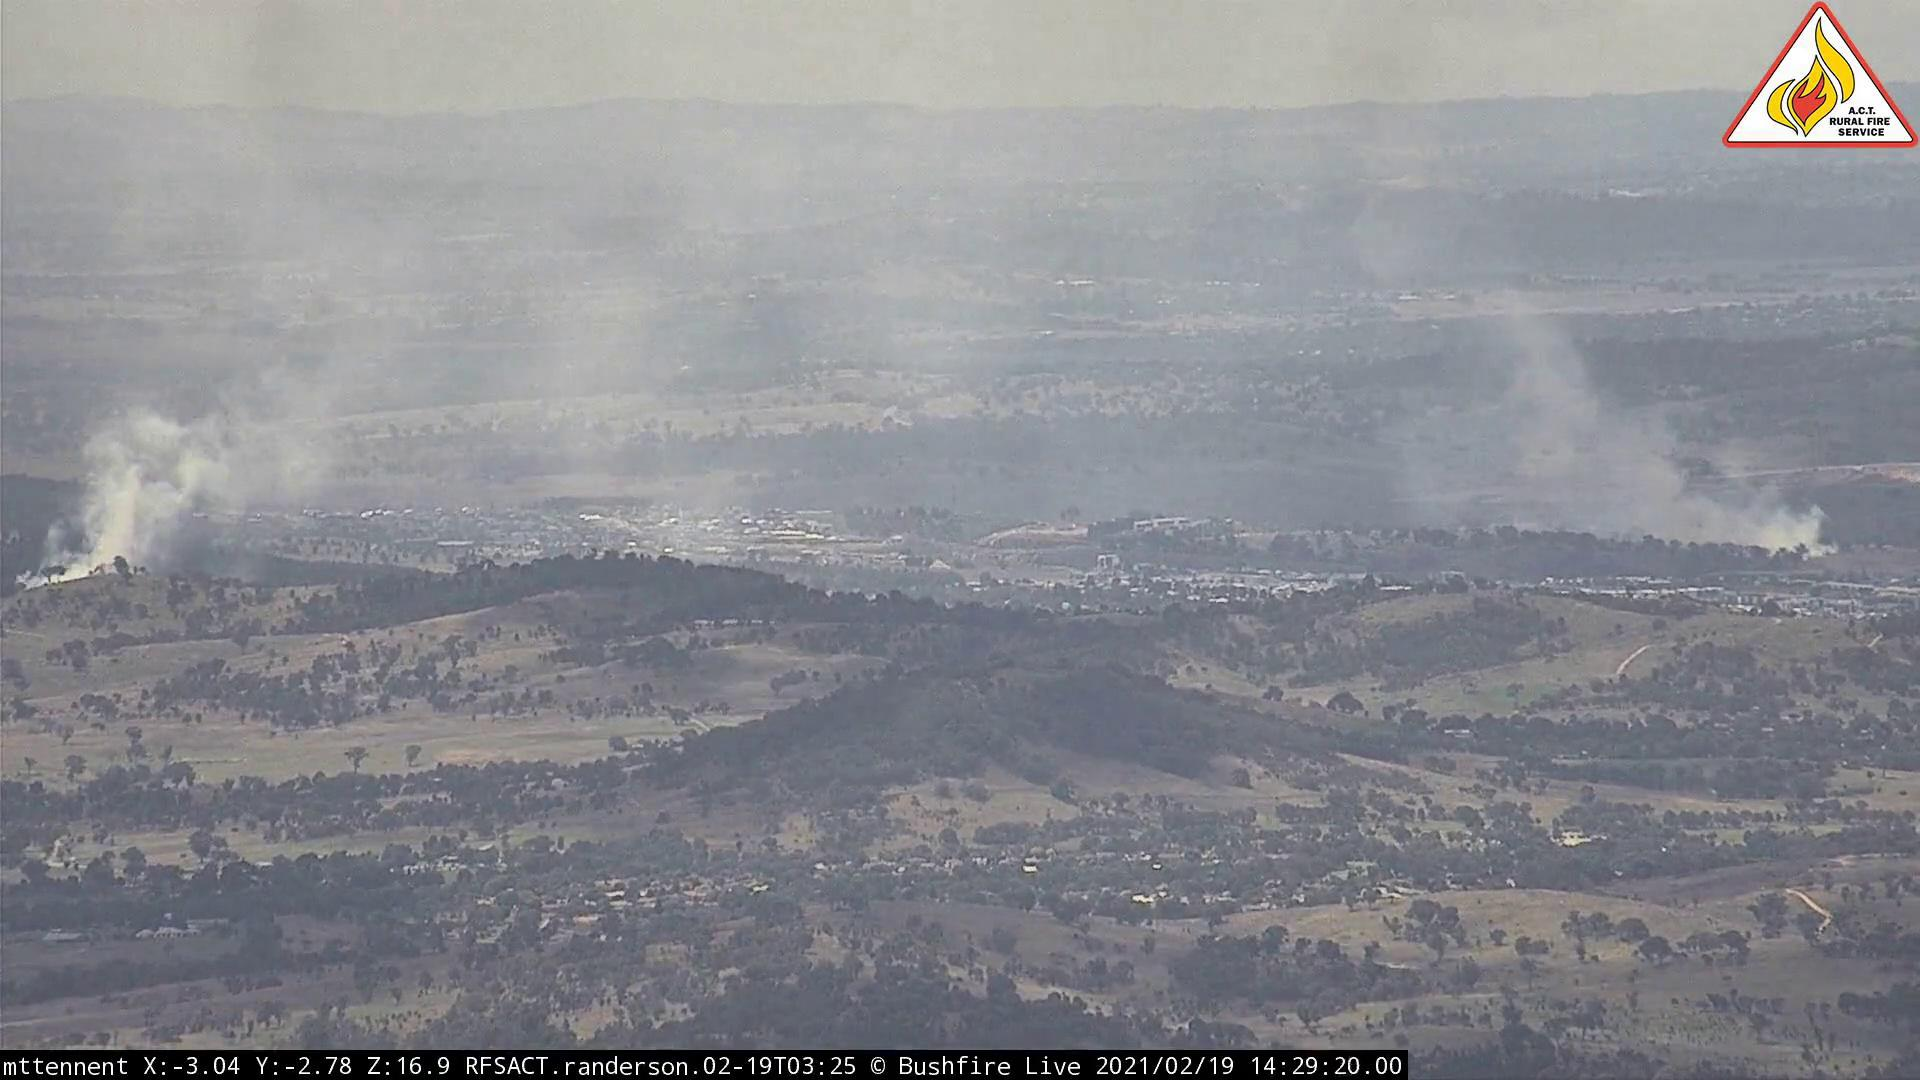Smoke: (18, 214, 522, 607), (1385, 276, 1855, 578)
